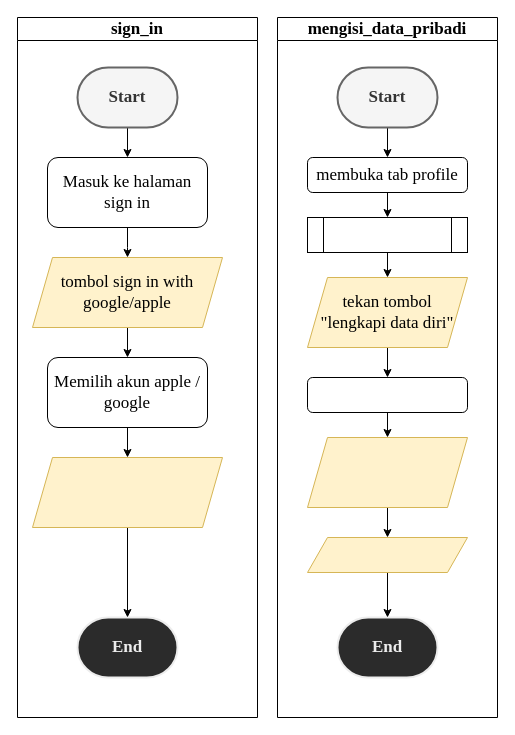
This 515x735 diagram has some shape labels left out. The shapes that lost their labels are listed below. From the top down, each one's centre as x and y in pixels, then its label:
the point at 387,234: user_sign_in
the point at 387,394: mengisi data diri
the point at 127,492: Halaman welcome
the point at 387,472: menyatakan diisi dengan sebenarnya
the point at 387,554: tekan "simpan"
